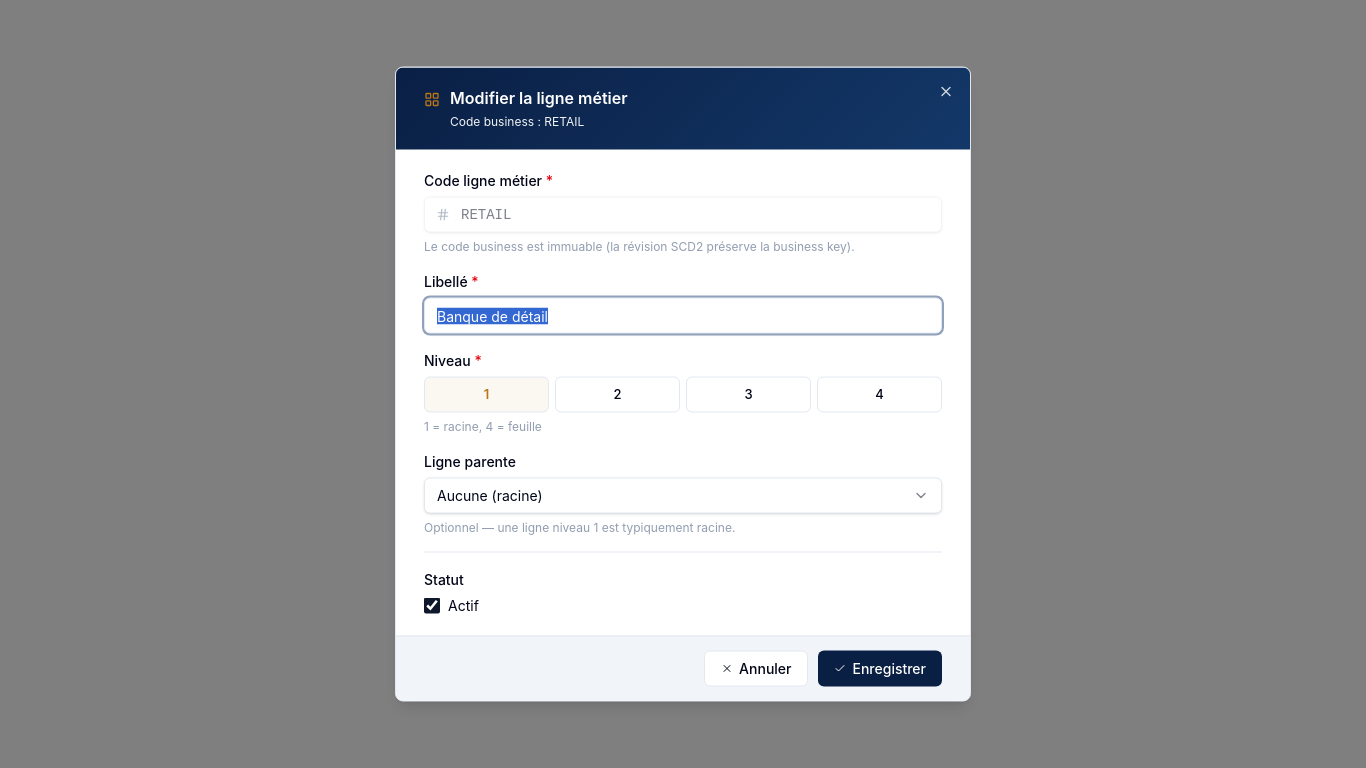
Test: LigneMetierFormDrawer › mode edit : bandeau SCD2 jaune apparaît après modification libellé
Expected: the text "SCD2 — Modification d'attribut historisé" is not shown
Replace the text in the field labelled "Libellé *" with "Banque de détail (rénové)". click: coordinates (683, 316)
box: 424,298 -> 942,334
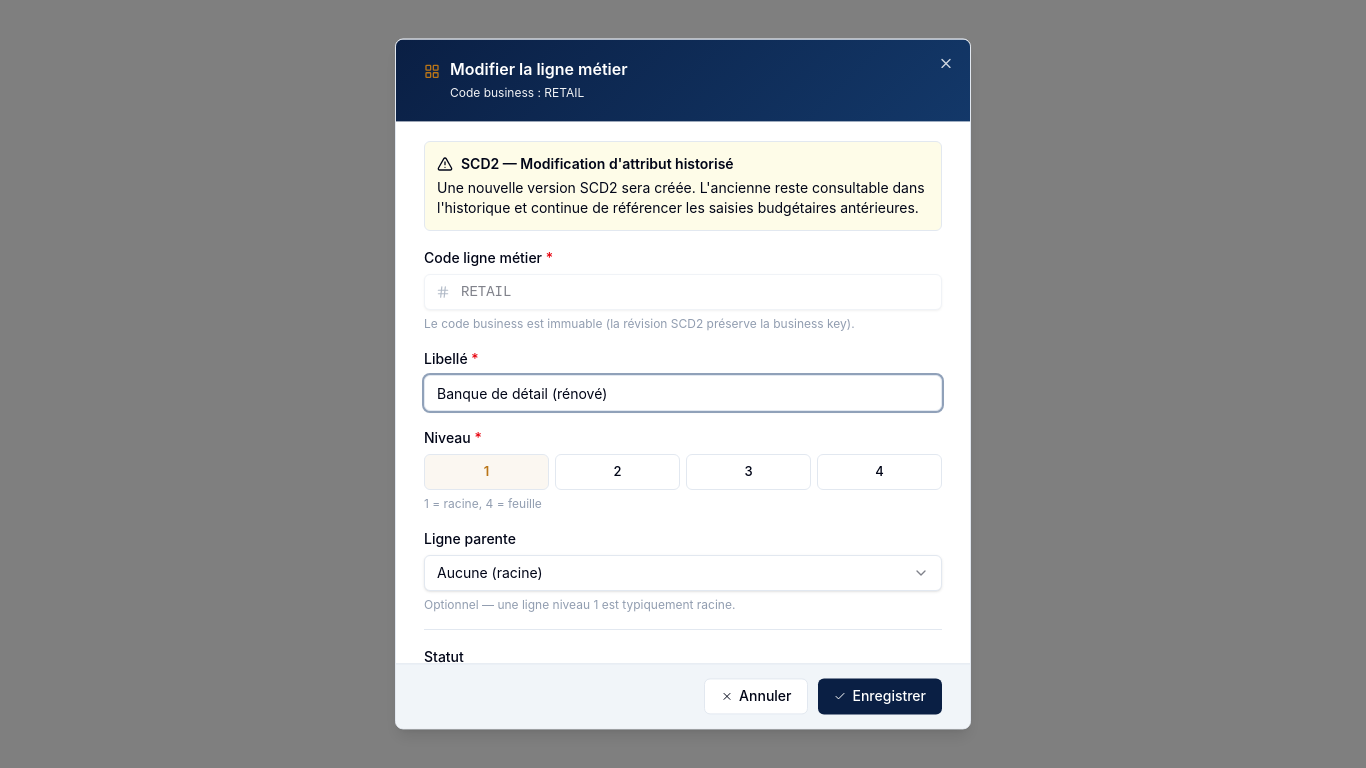
Expected: the text "SCD2 — Modification d'attribut historisé" is shown, 437,155 -> 734,172
